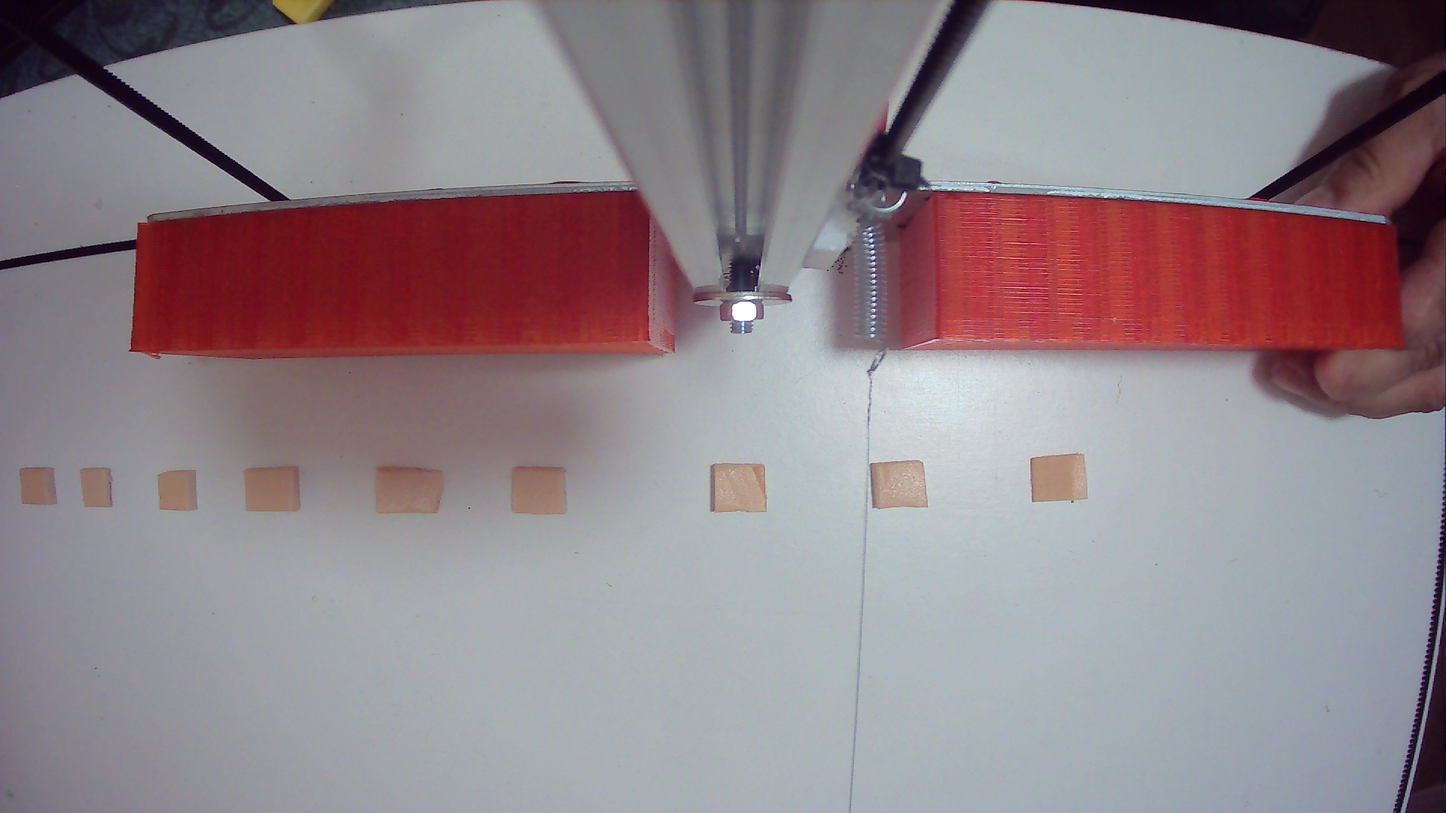polistirolo: (363, 453, 451, 528), (703, 453, 774, 530), (862, 449, 940, 518), (234, 453, 311, 522), (504, 453, 578, 524), (1022, 440, 1096, 506), (145, 465, 215, 516), (70, 457, 125, 516), (16, 461, 61, 518)
